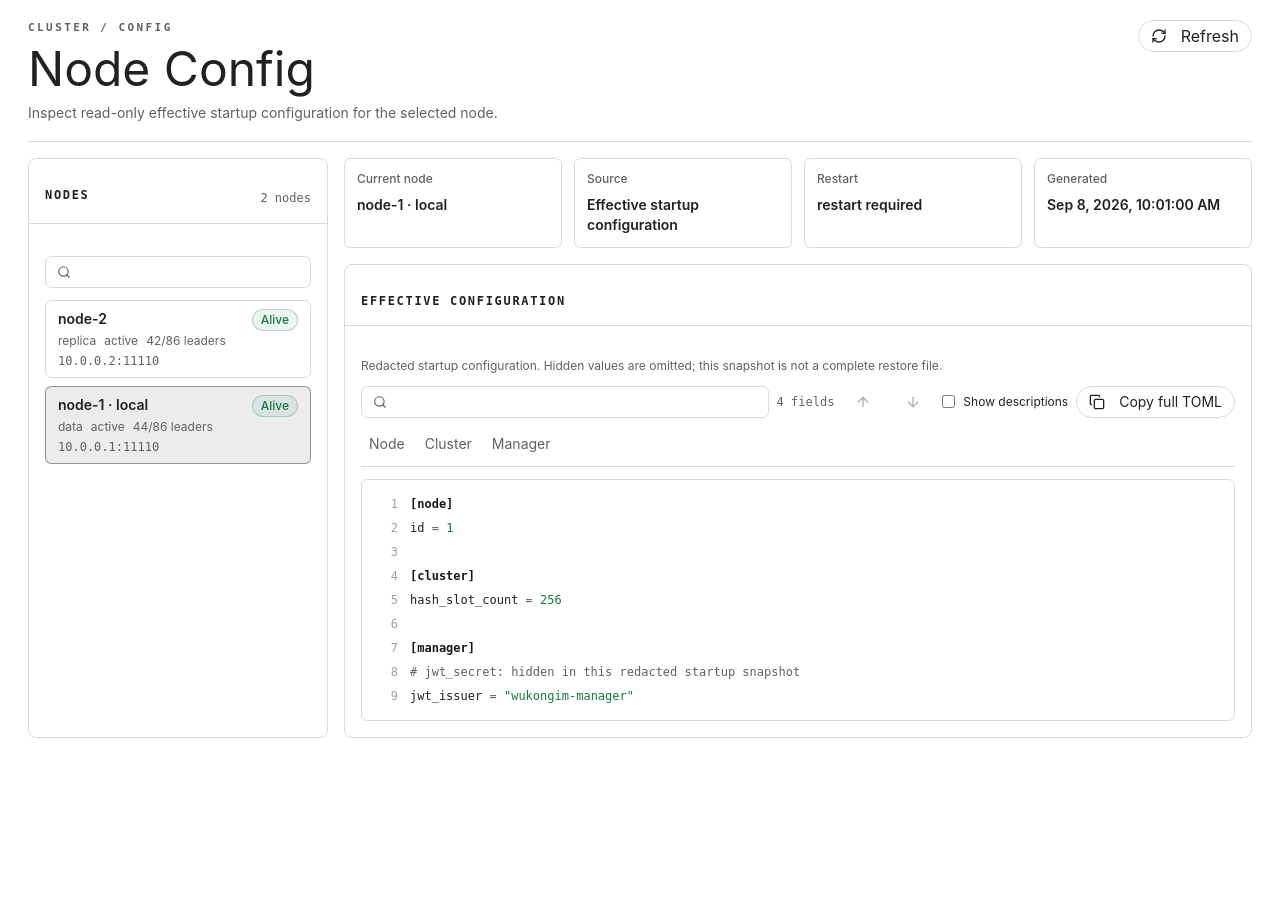
Test: search highlights and navigates the whole document without hiding fields
Type "jwt" into the field named "Search config" at [565, 402], box top-left (361, 386), bottom-right (769, 418)
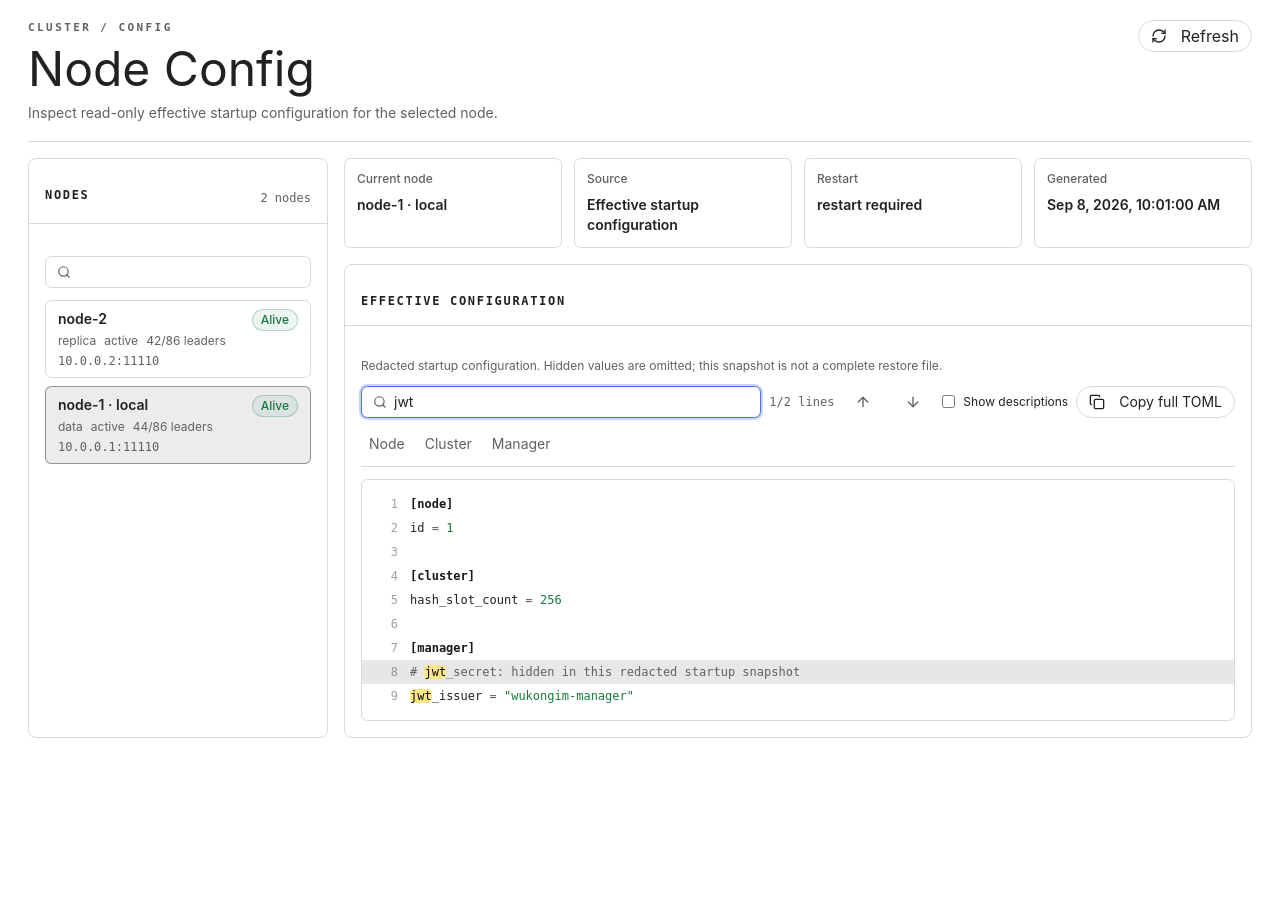
Click the button named "Next match" at [913, 402], box top-left (892, 386), bottom-right (934, 418)
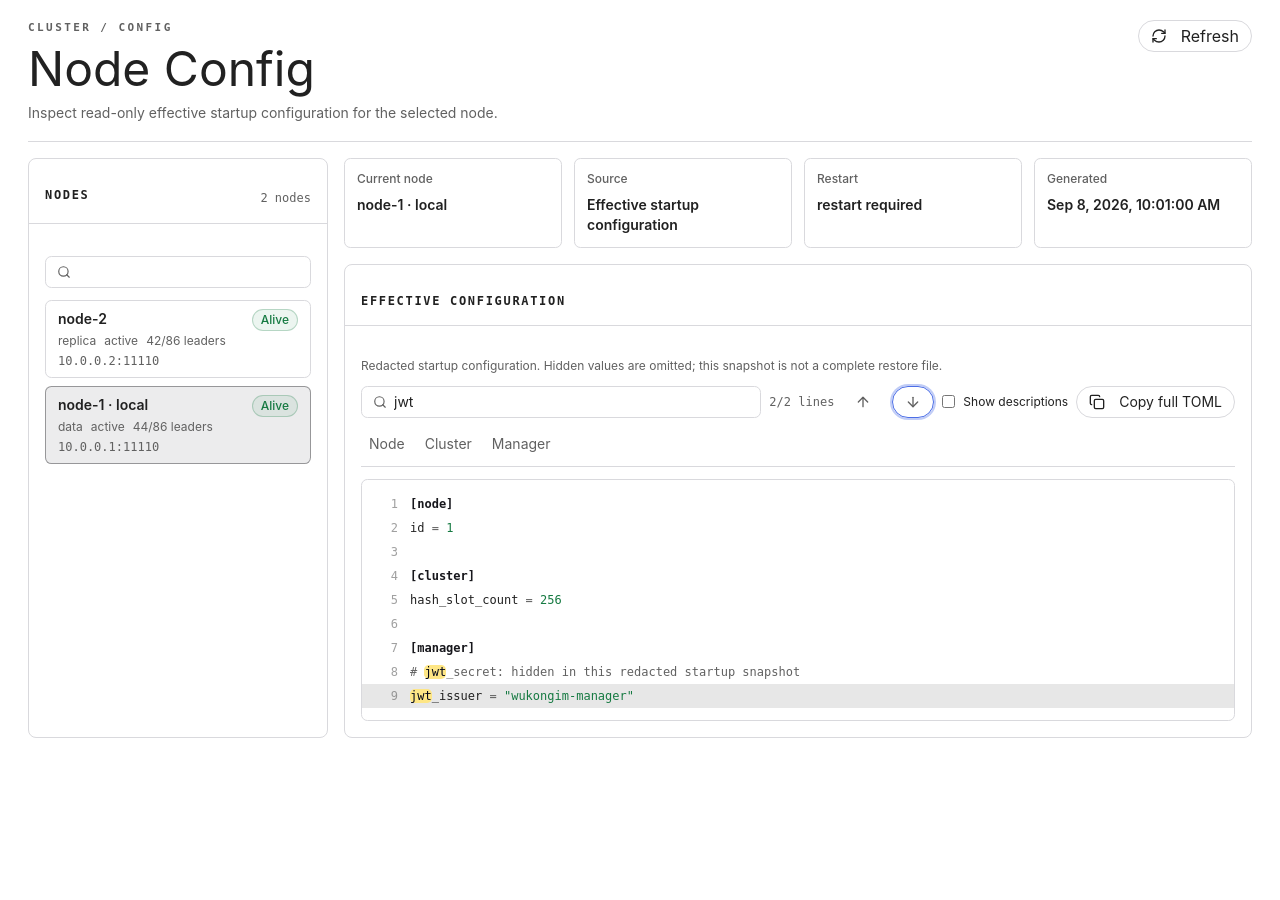
Click the button named "Previous match" at [863, 402], box top-left (842, 386), bottom-right (884, 418)
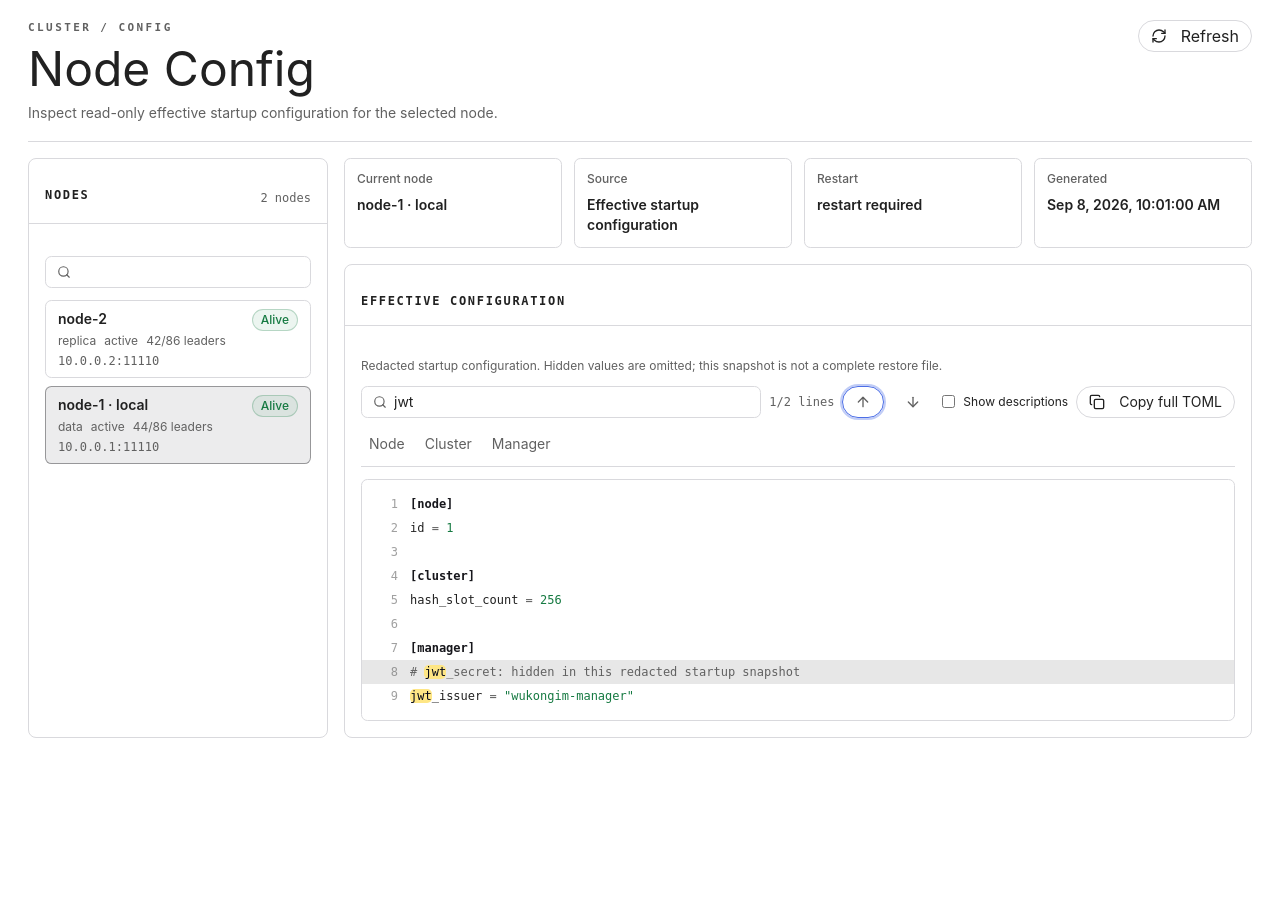
Click the button "Cluster" at [448, 444], box top-left (417, 430), bottom-right (480, 458)
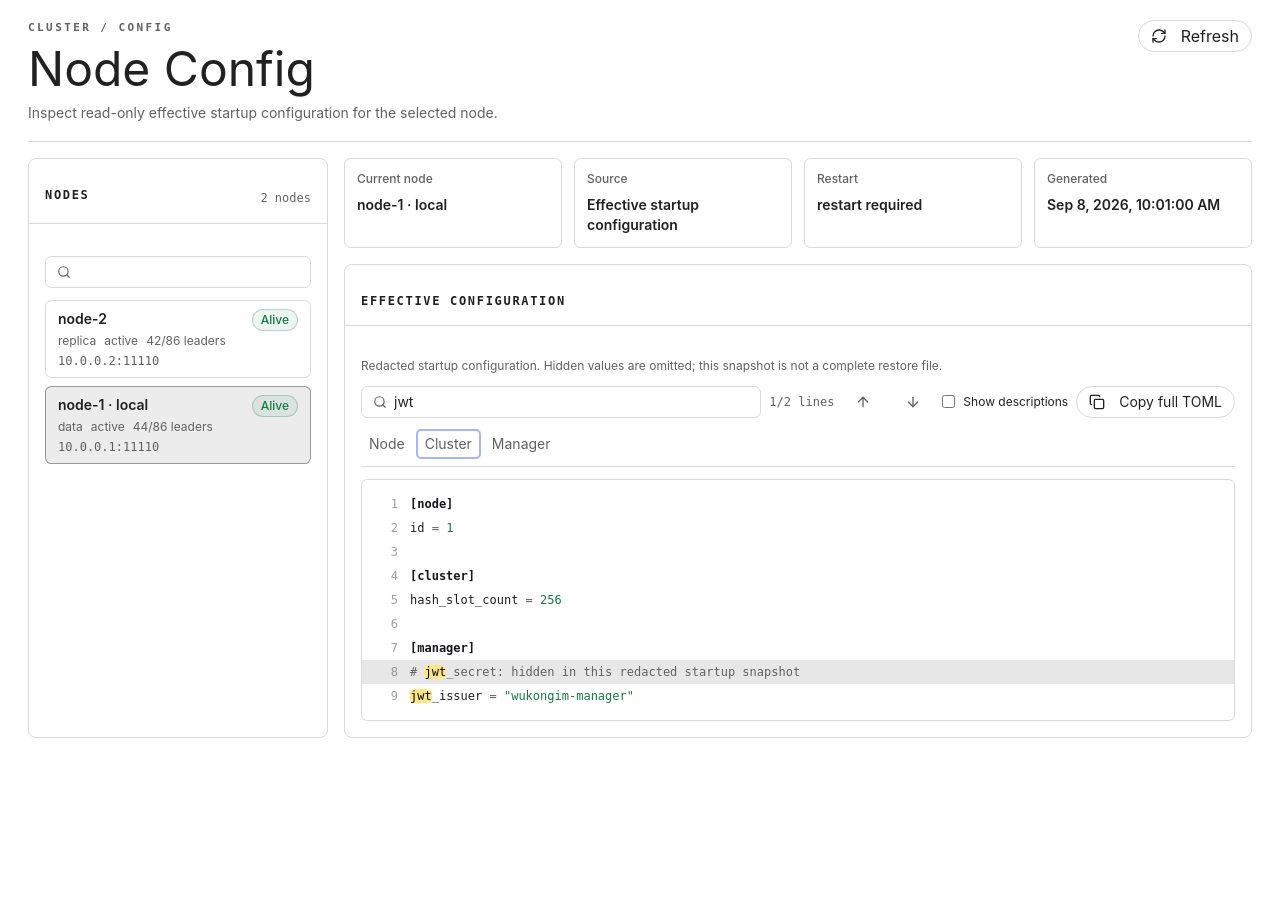
Clear the field named "Search config" at [561, 402], box top-left (361, 386), bottom-right (761, 418)
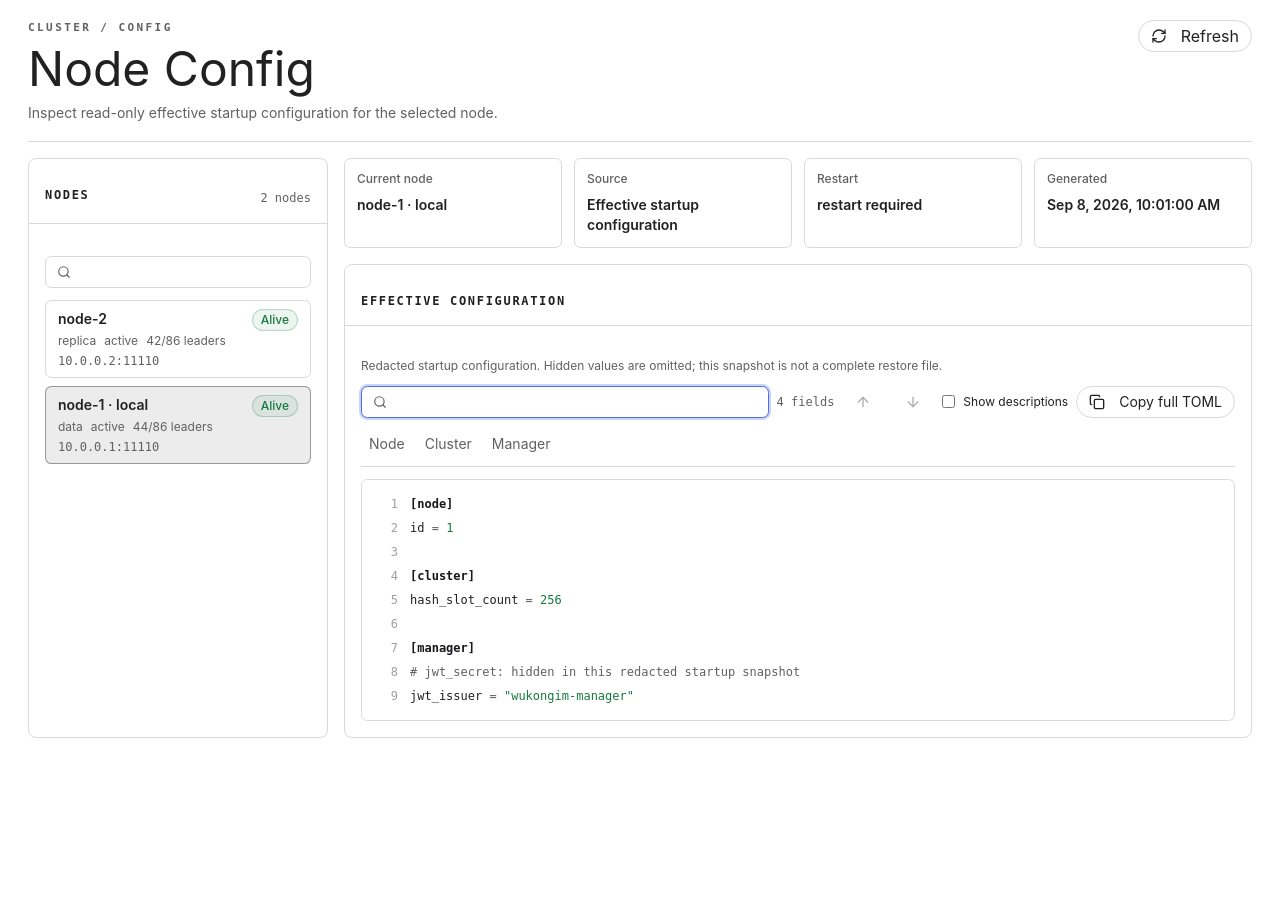
Type "no-such-setting" into the field named "Search config" at [565, 402], box top-left (361, 386), bottom-right (769, 418)
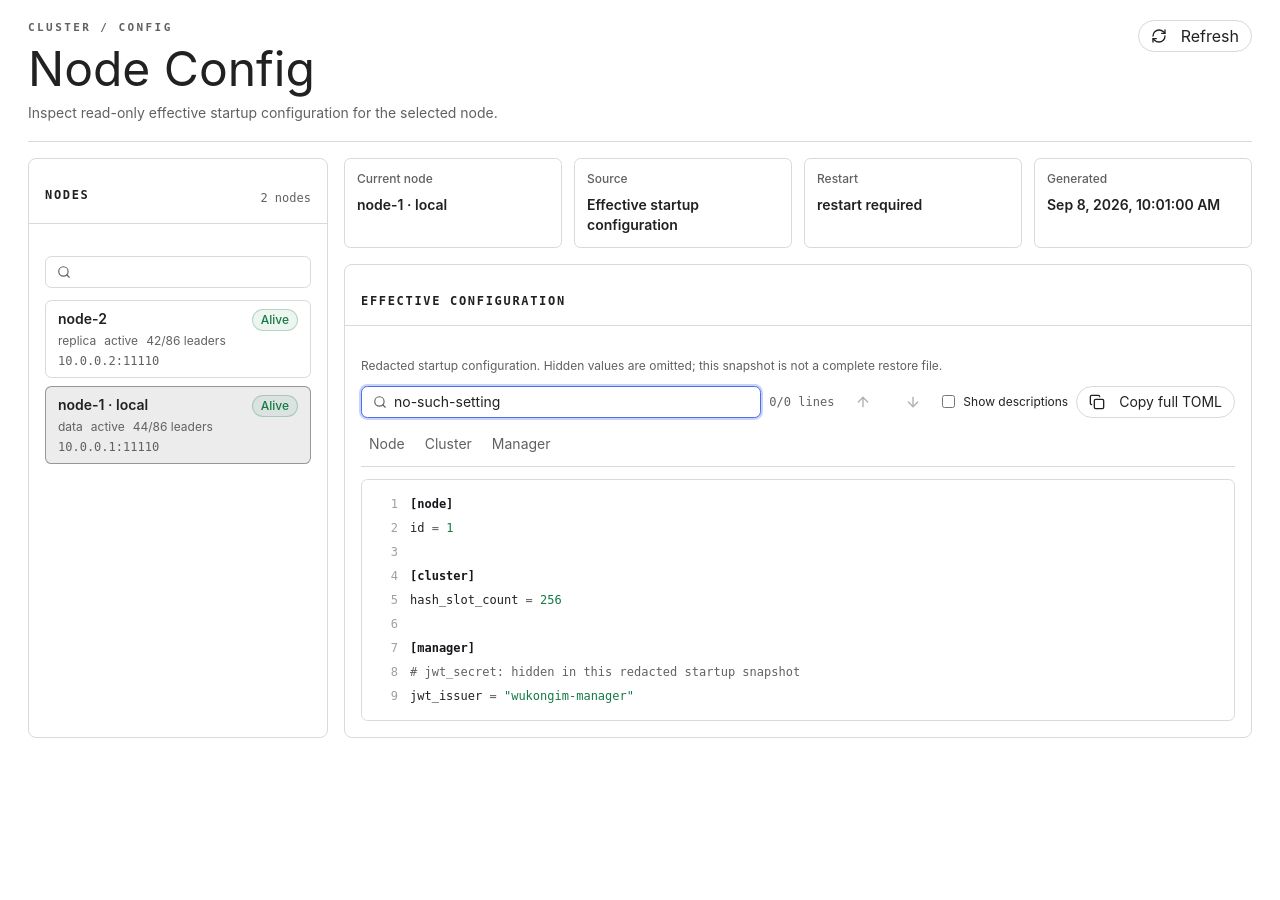
Check: the text "0/0 lines" is shown, box top-left (769, 394), bottom-right (834, 410)
